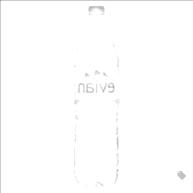bottle: (70, 2, 122, 190)
